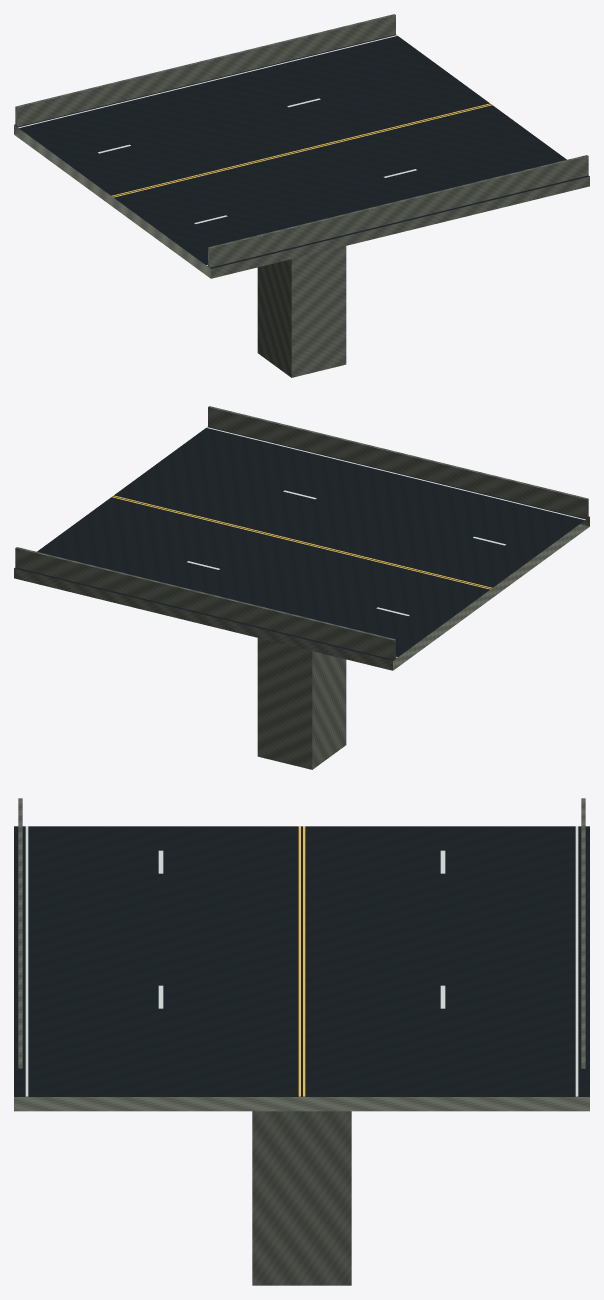
File: elevated_viaduct_4lane_16m_LOD1.glb
3 views of the same model, one above another, from view 1: azimuth 30°, elevation 25°; view 2: azimuth 150°, elevation 25°; view 3: azimuth 270°, elevation 25° (orthographic). The views are drawn at different scales.
Visible parts, largest first — view 1: elevated_viaduct_4lane_16m__deck.001, elevated_viaduct_4lane_16m__pier.001; view 2: elevated_viaduct_4lane_16m__deck.001, elevated_viaduct_4lane_16m__pier.001; view 3: elevated_viaduct_4lane_16m__deck.001, elevated_viaduct_4lane_16m__pier.001.
Part boxes in pixels (left/top/right/bottom): elevated_viaduct_4lane_16m__deck.001: left=14, top=14, right=589, bottom=278; elevated_viaduct_4lane_16m__pier.001: left=257, top=246, right=346, bottom=377; elevated_viaduct_4lane_16m__deck.001: left=14, top=406, right=589, bottom=670; elevated_viaduct_4lane_16m__pier.001: left=257, top=638, right=346, bottom=769; elevated_viaduct_4lane_16m__deck.001: left=14, top=798, right=589, bottom=1111; elevated_viaduct_4lane_16m__pier.001: left=252, top=1111, right=351, bottom=1285.
Bounding box in the file's own units: 16 × 9.18 × 14.4.
Materials: 4 (2 with a texture image).
